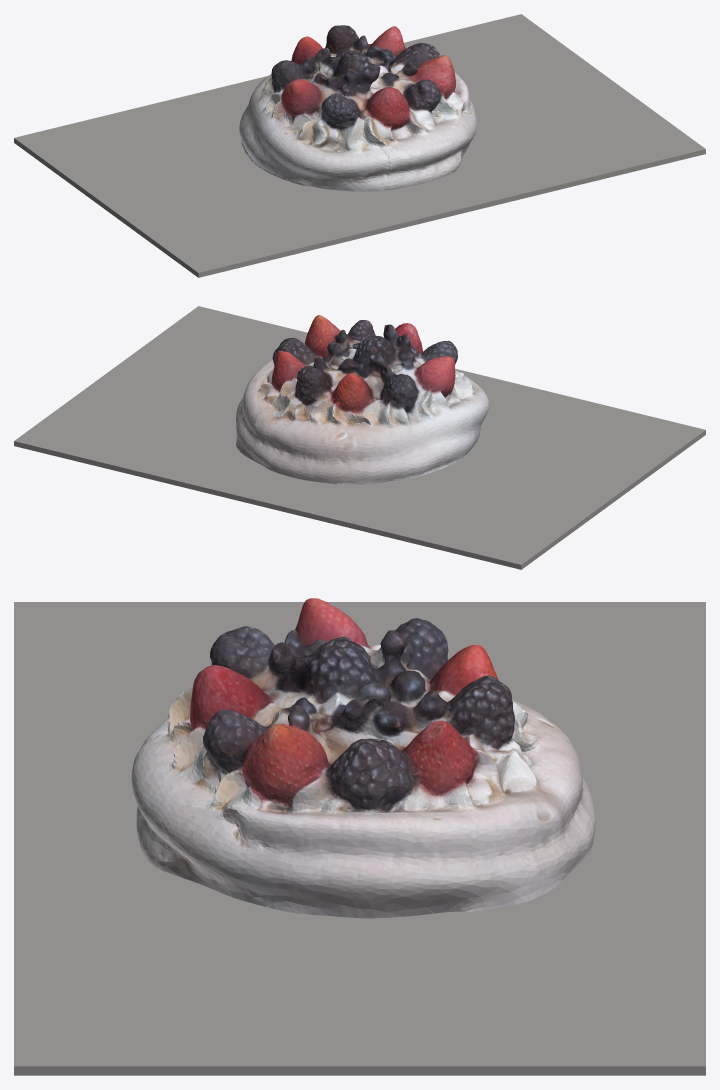
The model's file is keik sefid.behineh.glb.
The picture shows the model from 3 angles, top to bottom: view 1: azimuth 30°, elevation 25°; view 2: azimuth 150°, elevation 25°; view 3: azimuth 270°, elevation 25°; orthographic projection. The views are drawn at different scales.
Parts seen in each view (by area): view 1: Cube, object 1; view 2: Cube, object 1; view 3: Cube, object 1.
Part boxes in pixels (x1=…): Cube: x1=14, y1=14, x2=705, y2=277; object 1: x1=239, y1=25, x2=476, y2=191; Cube: x1=14, y1=306, x2=705, y2=569; object 1: x1=236, y1=315, x2=489, y2=485; Cube: x1=14, y1=602, x2=705, y2=1075; object 1: x1=131, y1=598, x2=595, y2=918.
Bounding box in the file's own units: 0.2136 × 0.0411 × 0.1345.
Materials: 2 (1 with a texture image).
